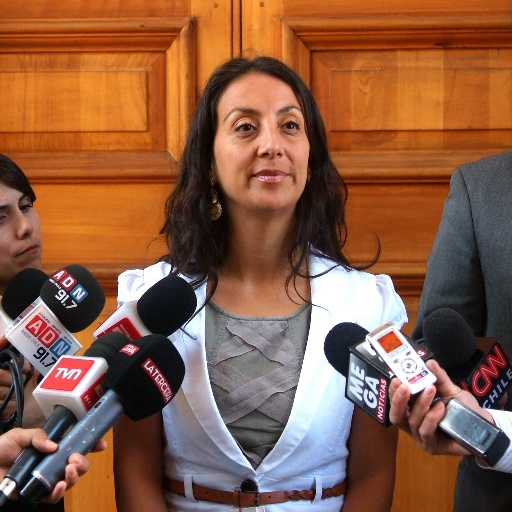hand: (382, 357, 479, 454), (0, 427, 104, 507), (0, 333, 31, 419)
